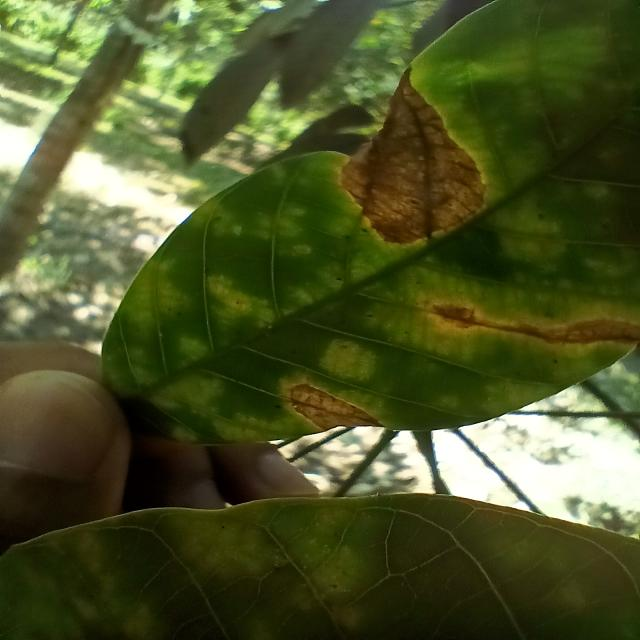Leaf-Blight: (338, 67, 489, 246), (427, 298, 640, 348), (285, 382, 384, 433)
